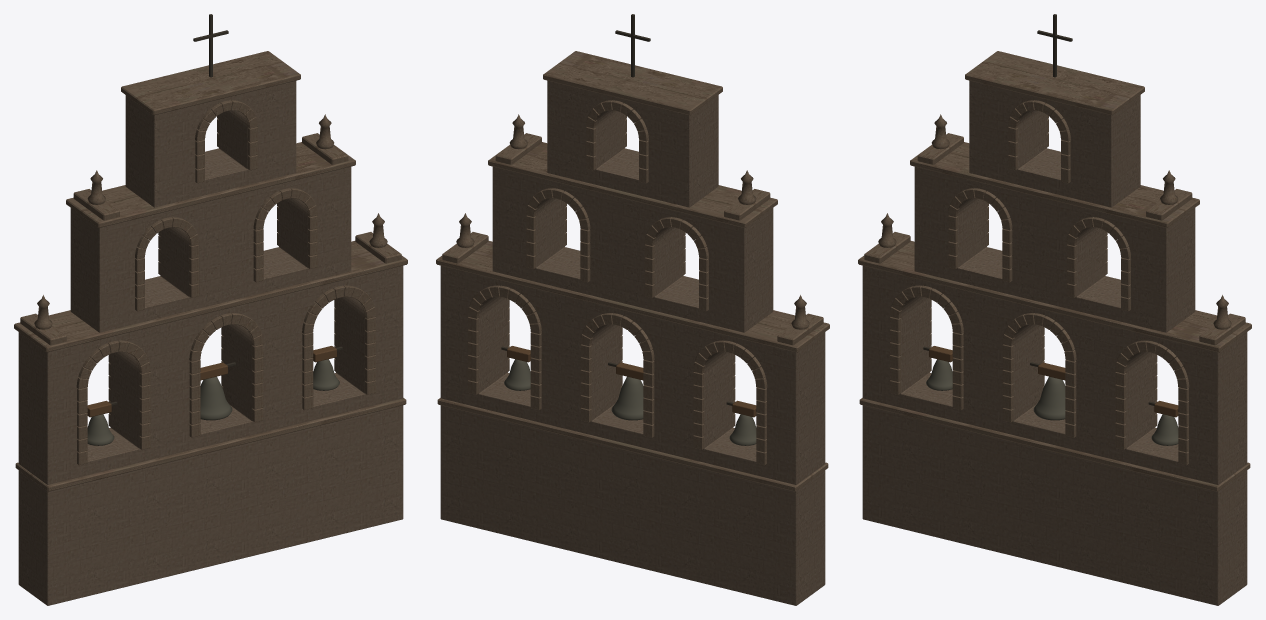
File: duero76_fresnillo_esp512.glb
The picture shows the model from 3 angles, left to right: view 1: azimuth 30°, elevation 25°; view 2: azimuth 150°, elevation 25°; view 3: azimuth 330°, elevation 25°; orthographic projection.
Visible parts, largest first — view 1: Fresnillo67_Fresnillo_PBR_rubble_CC0, Fresnillo67_Fresnillo_PBR_cut_stone_CC0, Fresnillo67_Three_bells_aged_bronze, Fresnillo67_Bell_yokes_dark_timber; view 2: Fresnillo67_Fresnillo_PBR_rubble_CC0, Fresnillo67_Fresnillo_PBR_cut_stone_CC0, Fresnillo67_Three_bells_aged_bronze, Fresnillo67_Bell_yokes_dark_timber; view 3: Fresnillo67_Fresnillo_PBR_rubble_CC0, Fresnillo67_Fresnillo_PBR_cut_stone_CC0, Fresnillo67_Three_bells_aged_bronze, Fresnillo67_Bell_yokes_dark_timber.
Part boxes in pixels (x1=…): Fresnillo67_Fresnillo_PBR_rubble_CC0: x1=18, y1=81, x2=403, y2=605; Fresnillo67_Fresnillo_PBR_cut_stone_CC0: x1=14, y1=51, x2=407, y2=491; Fresnillo67_Three_bells_aged_bronze: x1=87, y1=359, x2=339, y2=445; Fresnillo67_Bell_yokes_dark_timber: x1=87, y1=346, x2=336, y2=417; Fresnillo67_Fresnillo_PBR_rubble_CC0: x1=440, y1=80, x2=825, y2=605; Fresnillo67_Fresnillo_PBR_cut_stone_CC0: x1=436, y1=51, x2=829, y2=491; Fresnillo67_Three_bells_aged_bronze: x1=504, y1=359, x2=756, y2=445; Fresnillo67_Bell_yokes_dark_timber: x1=507, y1=346, x2=756, y2=417; Fresnillo67_Fresnillo_PBR_rubble_CC0: x1=862, y1=80, x2=1247, y2=605; Fresnillo67_Fresnillo_PBR_cut_stone_CC0: x1=858, y1=51, x2=1251, y2=491; Fresnillo67_Three_bells_aged_bronze: x1=926, y1=359, x2=1178, y2=445; Fresnillo67_Bell_yokes_dark_timber: x1=929, y1=346, x2=1178, y2=417.
Bounding box in the file's own units: 12.2 × 17.32 × 1.94.
Materials: 5 (2 with a texture image).
